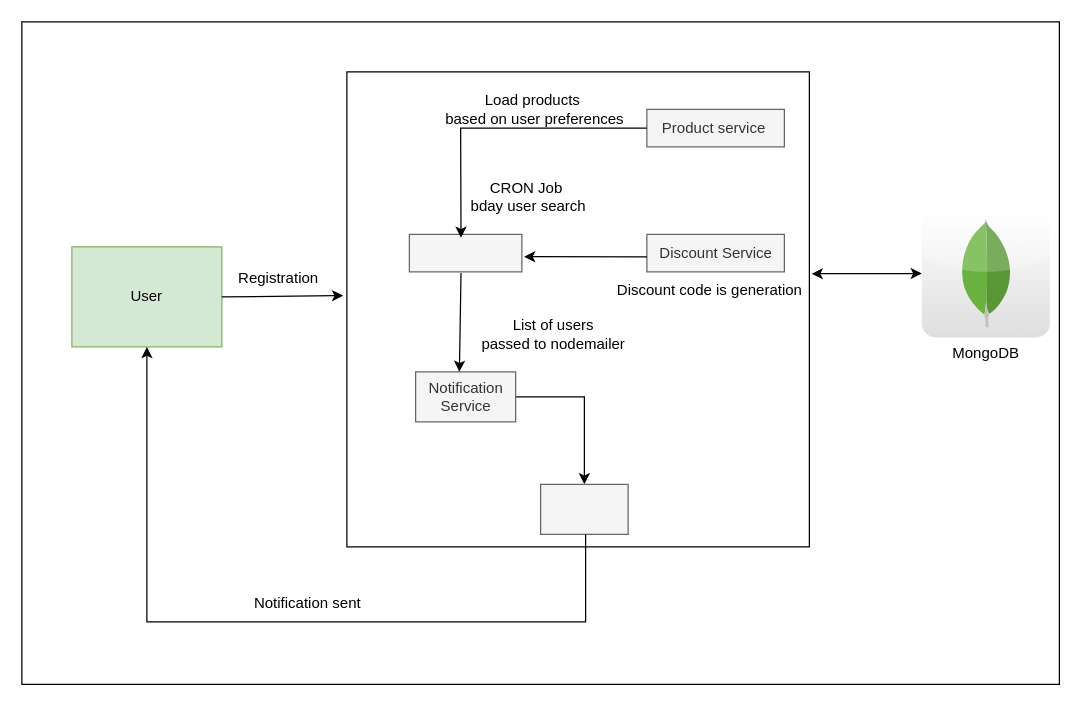
Image size: 1081x706. Some labels were removed from this diagram. The box of each missing label's shape, as (x1, y1, x2, y2) in pixels:
Email Provider: (539, 483, 628, 534)
User Service: (408, 233, 522, 272)
